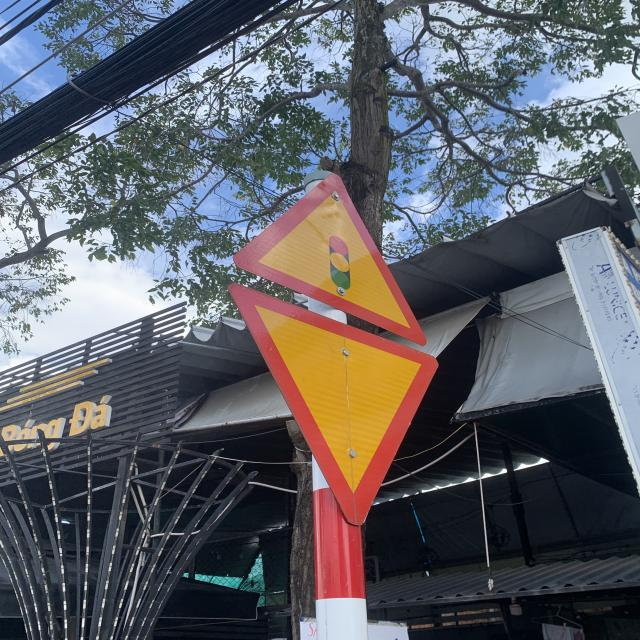Duong_Co_Go_Giam_Toc: (224, 175, 427, 337)
Gioi_Han_Toc_Do_25: (224, 278, 442, 529)
